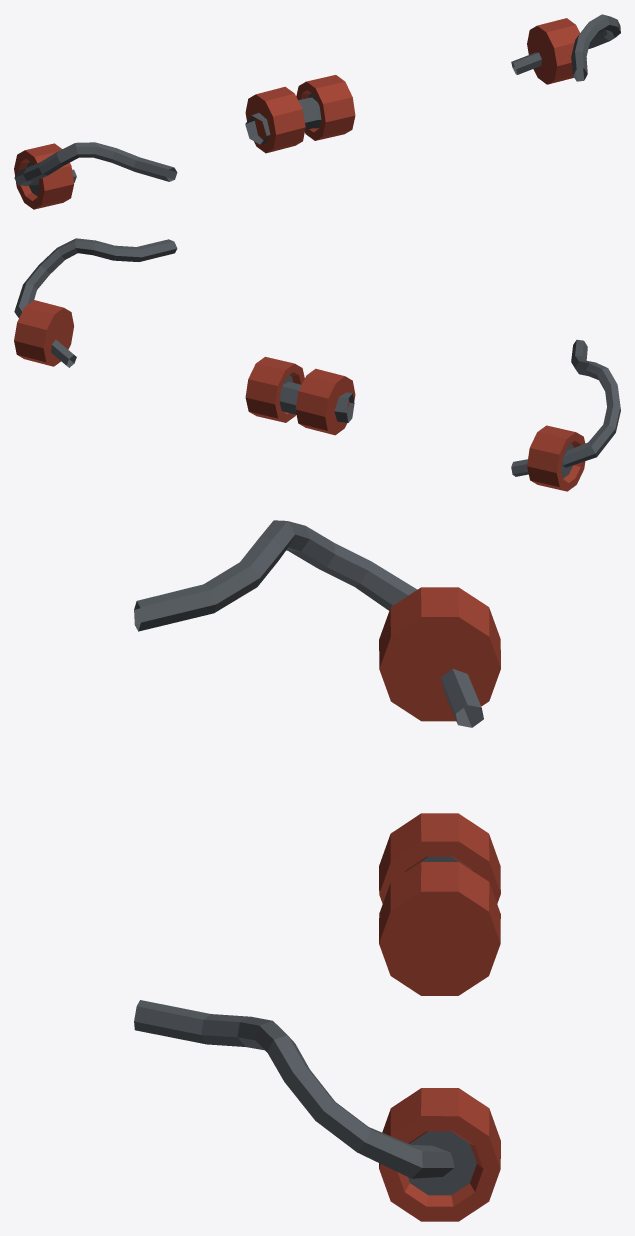
File: Dropship_01_Cables_Red.fbx
3 renders of one model, top to bottom at view 1: azimuth 30°, elevation 25°; view 2: azimuth 150°, elevation 25°; view 3: azimuth 270°, elevation 25°, orthographic. The views are drawn at different scales.
Visible parts, largest first — view 1: Dropship_01_Cables_Red; view 2: Dropship_01_Cables_Red; view 3: Dropship_01_Cables_Red.
Boxes of the visible parts, x1,y1,x2,y2 form: Dropship_01_Cables_Red: (14, 14, 620, 209); Dropship_01_Cables_Red: (14, 238, 620, 491); Dropship_01_Cables_Red: (134, 520, 500, 1221).
Size of the model in its own units: 952 by 138 by 255.
1 material, 1 textured.
